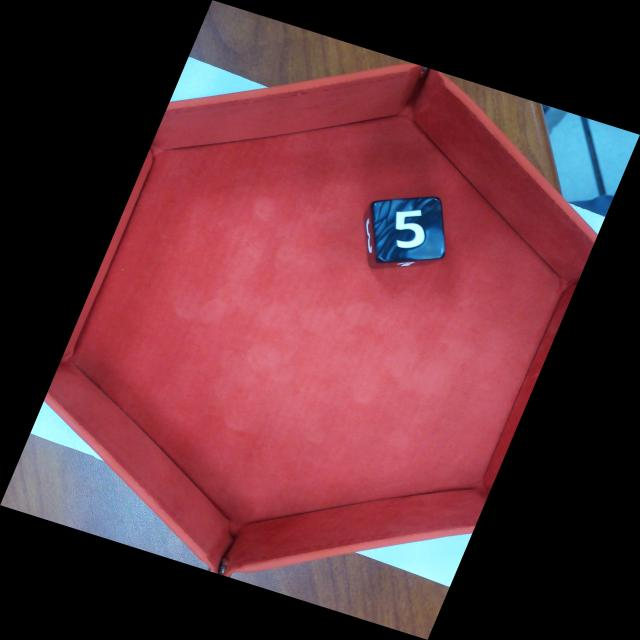dice: (377, 202, 444, 258)
